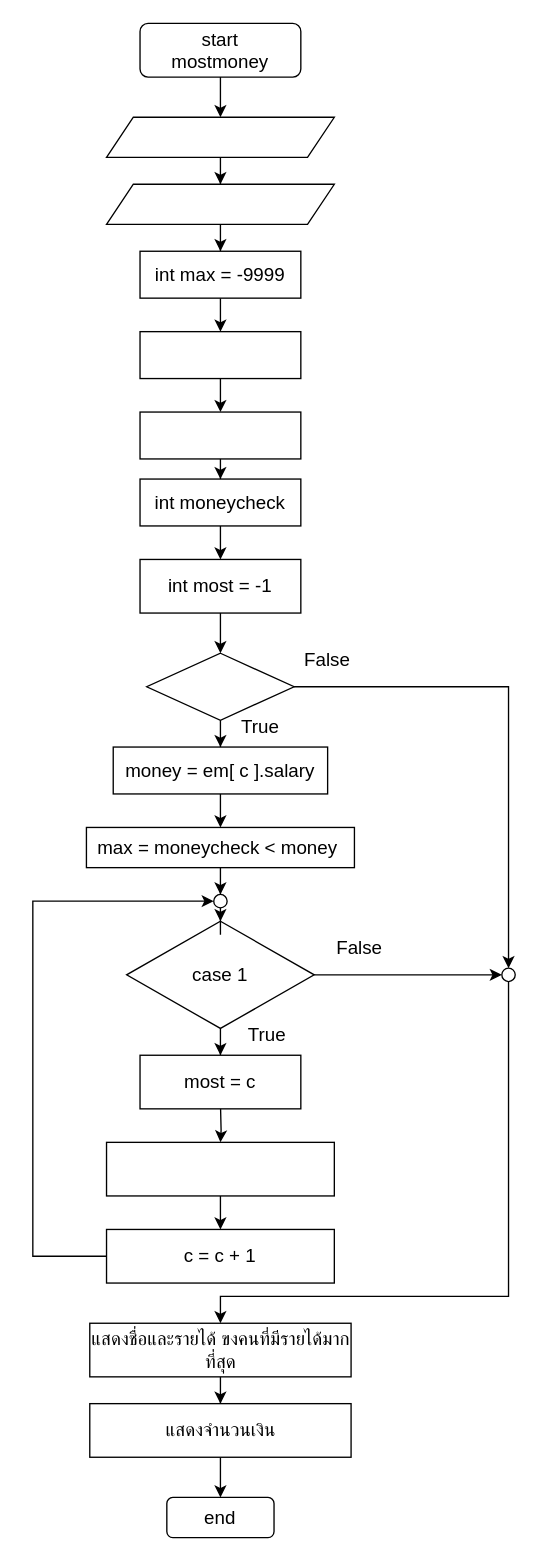
The diagram is 543 pixels wide and 1561 high, and some of its shapes have lost their labels. The centre of each missing label's shape, as x and y in pixels:
c < i: the point at 219,686
int c = 0: the point at 220,435
int money = 0: the point at 220,354
moneycheck = money: the point at 219,1168
รับค่า emp em[]: the point at 219,203
รับค่า int i: the point at 219,136
